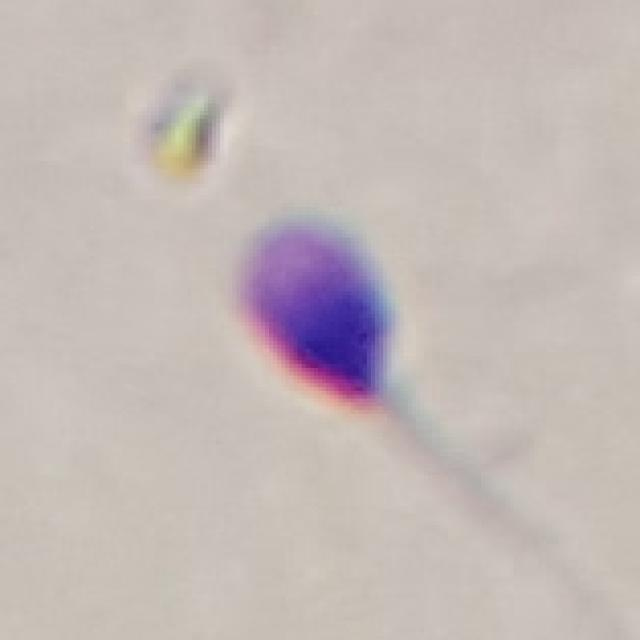normal sperm: (241, 202, 496, 540)
